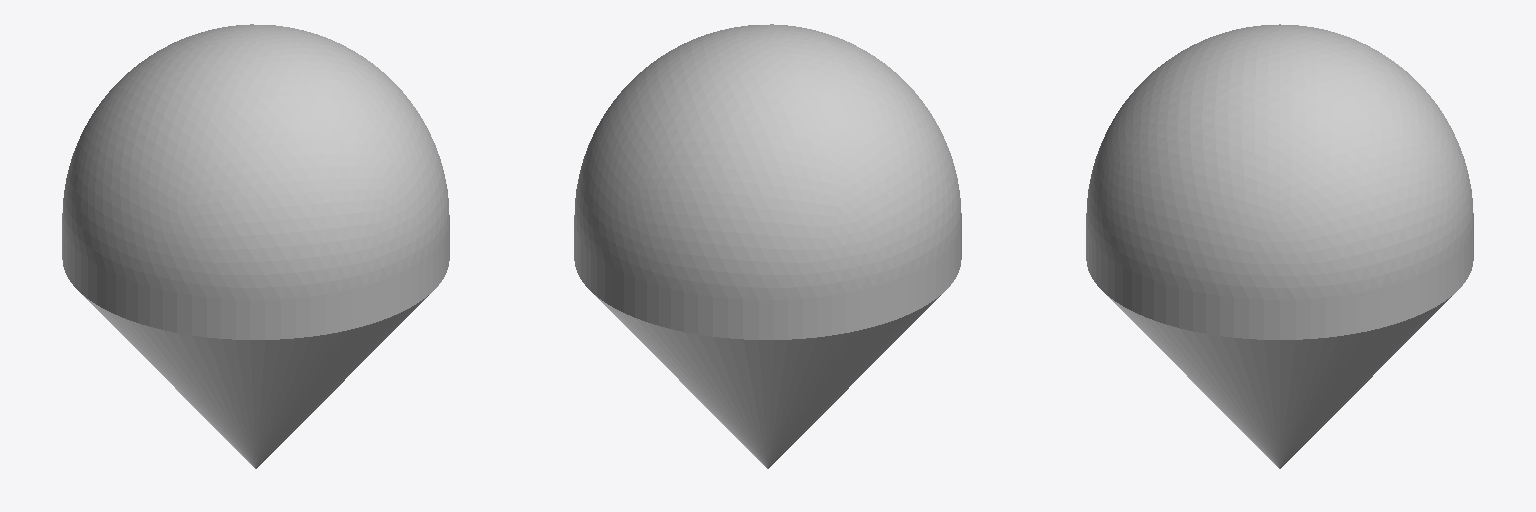
File: skydome.obj
3 renders of one model, left to right at view 1: azimuth 30°, elevation 25°; view 2: azimuth 150°, elevation 25°; view 3: azimuth 270°, elevation 25°, orthographic.
Parts seen in each view (by area): view 1: Icosphere; view 2: Icosphere; view 3: Icosphere.
Part boxes in pixels (x1,y1,x2,y2): Icosphere: (62,24,449,468); Icosphere: (574,24,961,468); Icosphere: (1086,24,1473,468).
Size of the model in its own units: 2 by 2.43 by 2.